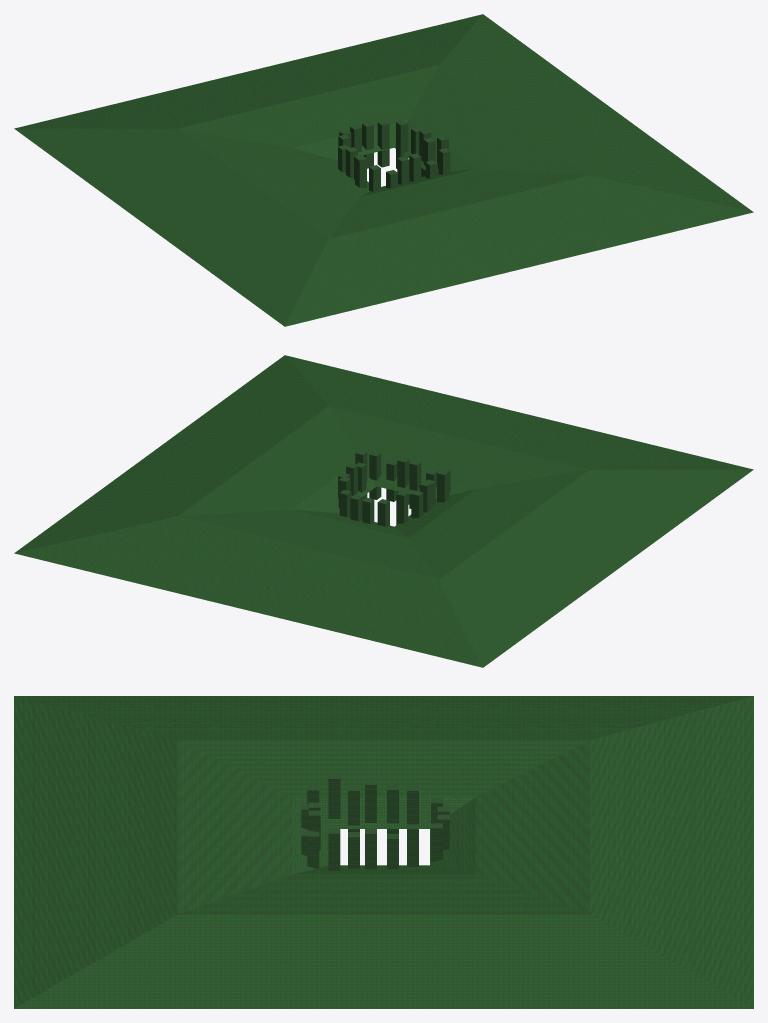
Rendered from passthrough.obj.
The picture shows the model from 3 angles, top to bottom: view 1: azimuth 30°, elevation 25°; view 2: azimuth 150°, elevation 25°; view 3: azimuth 270°, elevation 25°; orthographic projection. The views are drawn at different scales.
Parts seen in each view (by area): view 1: Plane, Cube.006; view 2: Plane, Cube.006; view 3: Plane, Cube.006.
Boxes of the visible parts, x1,y1,x2,y2 form: Plane: [14, 14, 753, 326]; Cube.006: [338, 120, 450, 191]; Plane: [14, 355, 753, 667]; Cube.006: [338, 450, 450, 526]; Plane: [14, 696, 753, 1008]; Cube.006: [301, 774, 449, 870].
Bounding box in the file's own units: 249 × 24.87 × 249.
